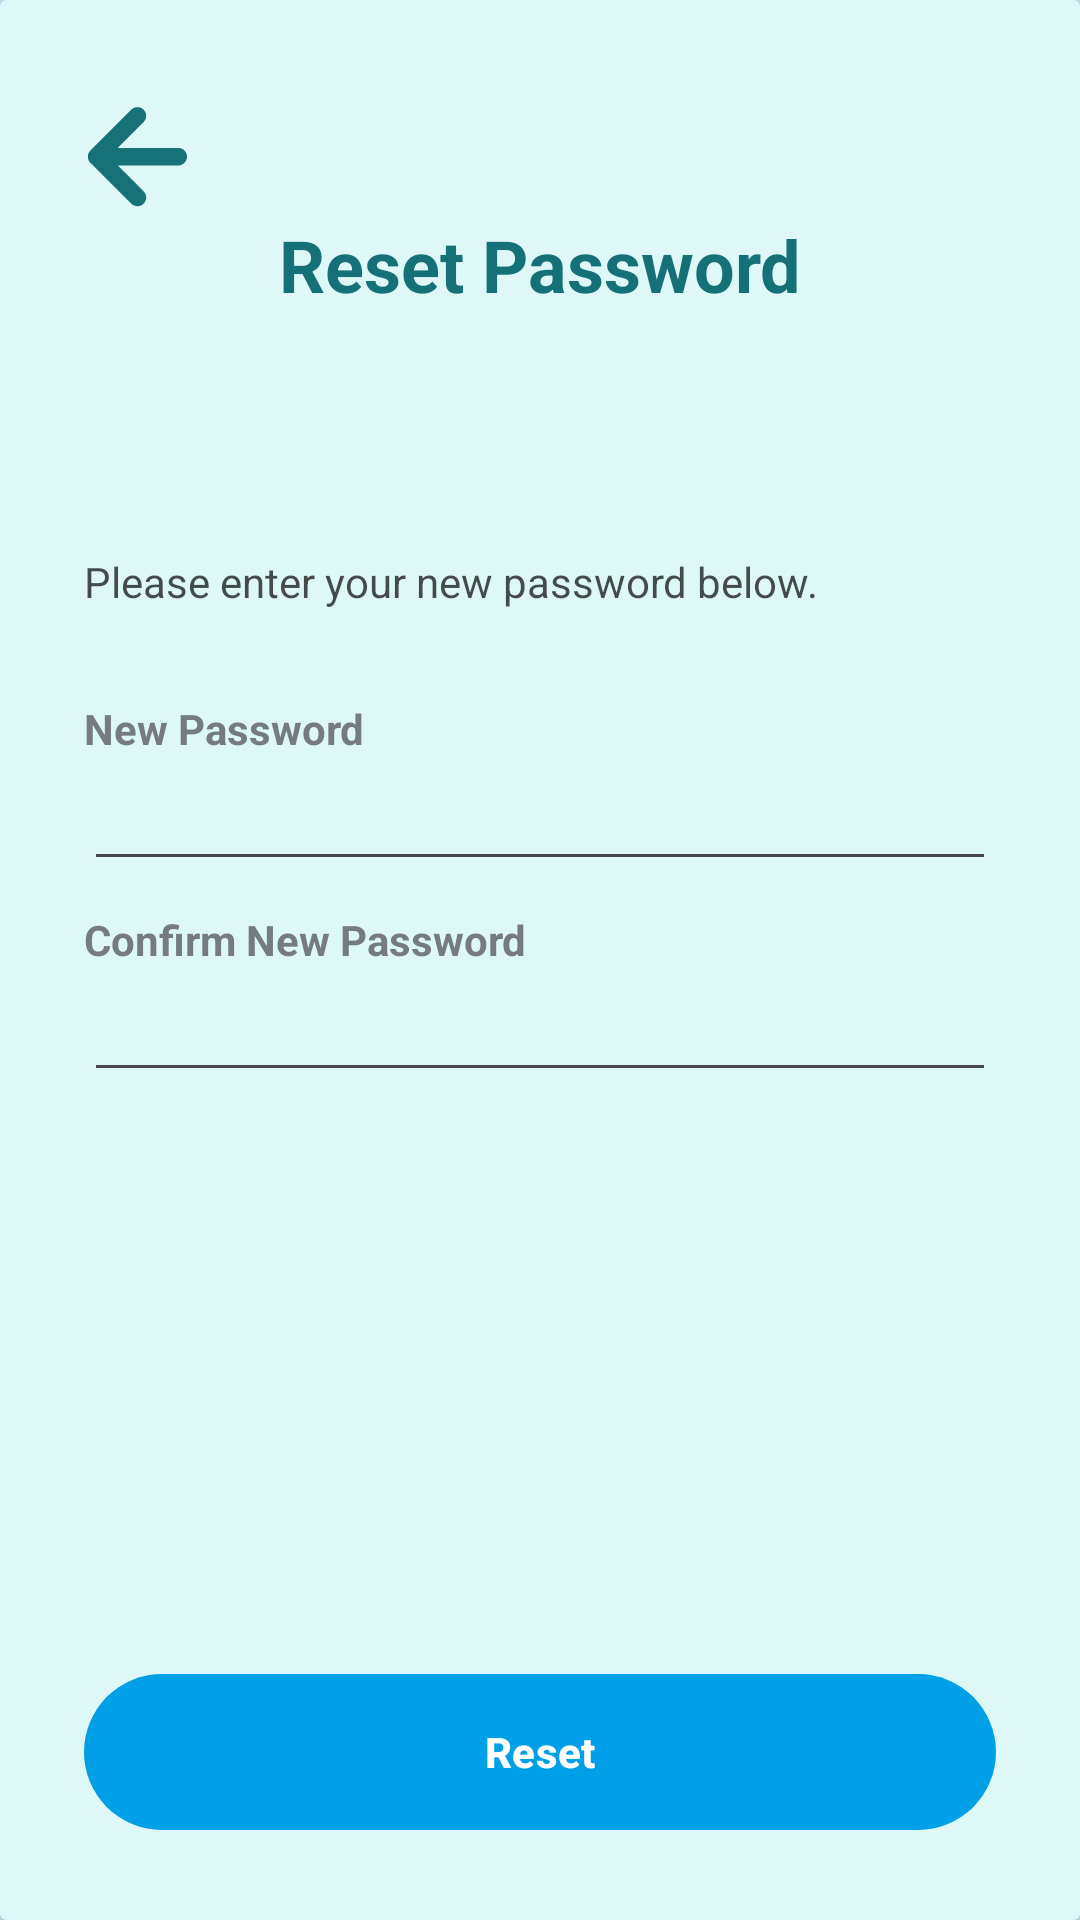

Icon click points for this 1080x1920 phone screenshot, format (x,y):
back: (137,157)
